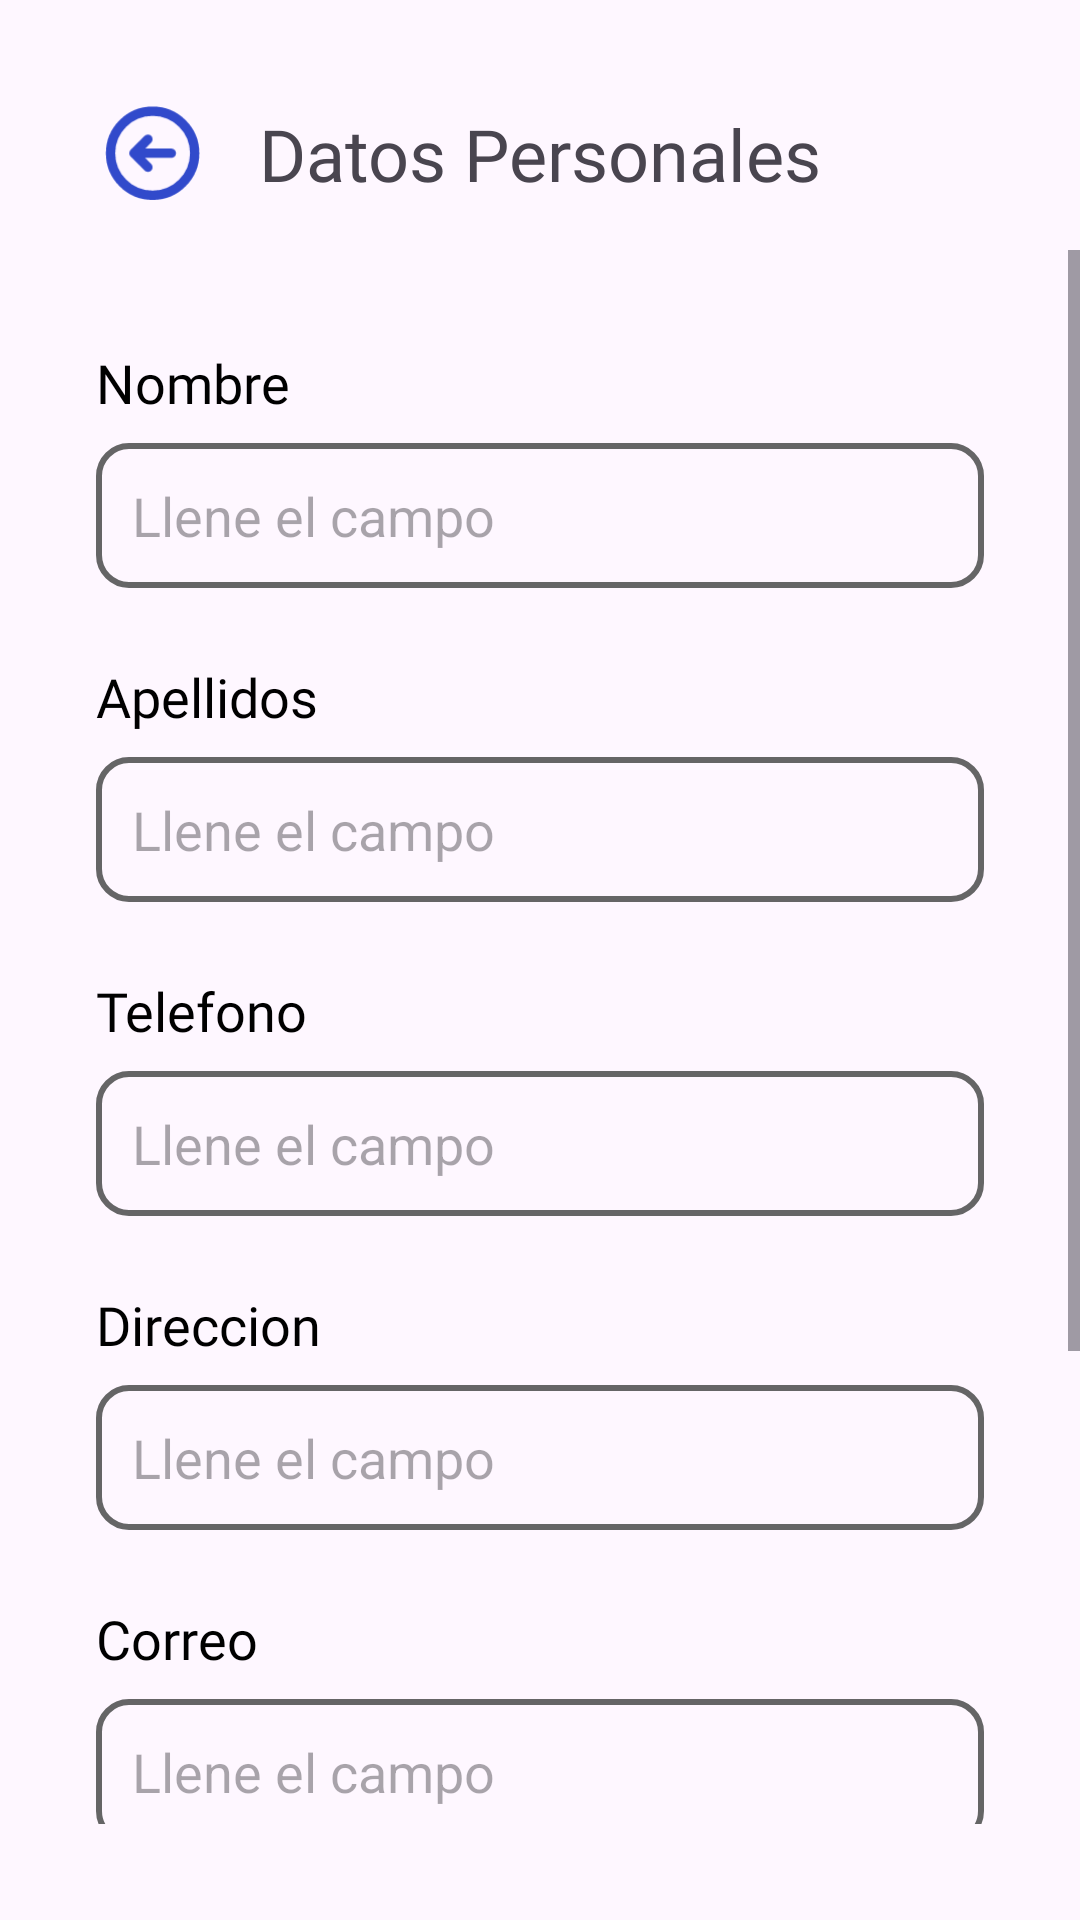

Icon bounding boxes for this 1080px x 1920px phone screenshot, format region(x1, y1, x2, y2):
arrow circle left: region(105, 106, 200, 200)
